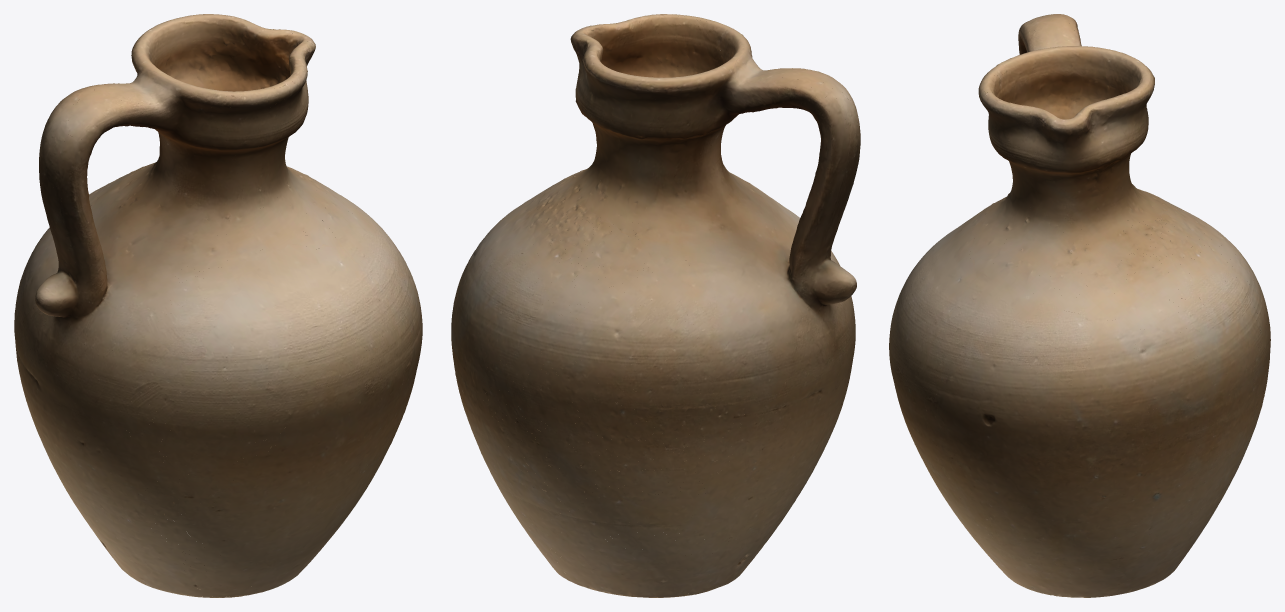
The model's file is botija_de_boca_de_vinagre.lod1.glb.
3 renders of one model, left to right at view 1: azimuth 30°, elevation 25°; view 2: azimuth 150°, elevation 25°; view 3: azimuth 270°, elevation 25°, orthographic. The views are drawn at different scales.
Visible parts, largest first — view 1: Object_2, Object_3; view 2: Object_2, Object_3; view 3: Object_3, Object_2.
Part boxes in pixels (<box>): Object_2: <box>14,14,398,597</box>; Object_3: <box>17,30,422,597</box>; Object_2: <box>451,14,859,595</box>; Object_3: <box>451,14,860,597</box>; Object_3: <box>889,14,1270,597</box>; Object_2: <box>890,14,1270,571</box>.
Size of the model in its own units: 1.26 by 1.7 by 1.21.
Materials: 1 (1 with a texture image).
